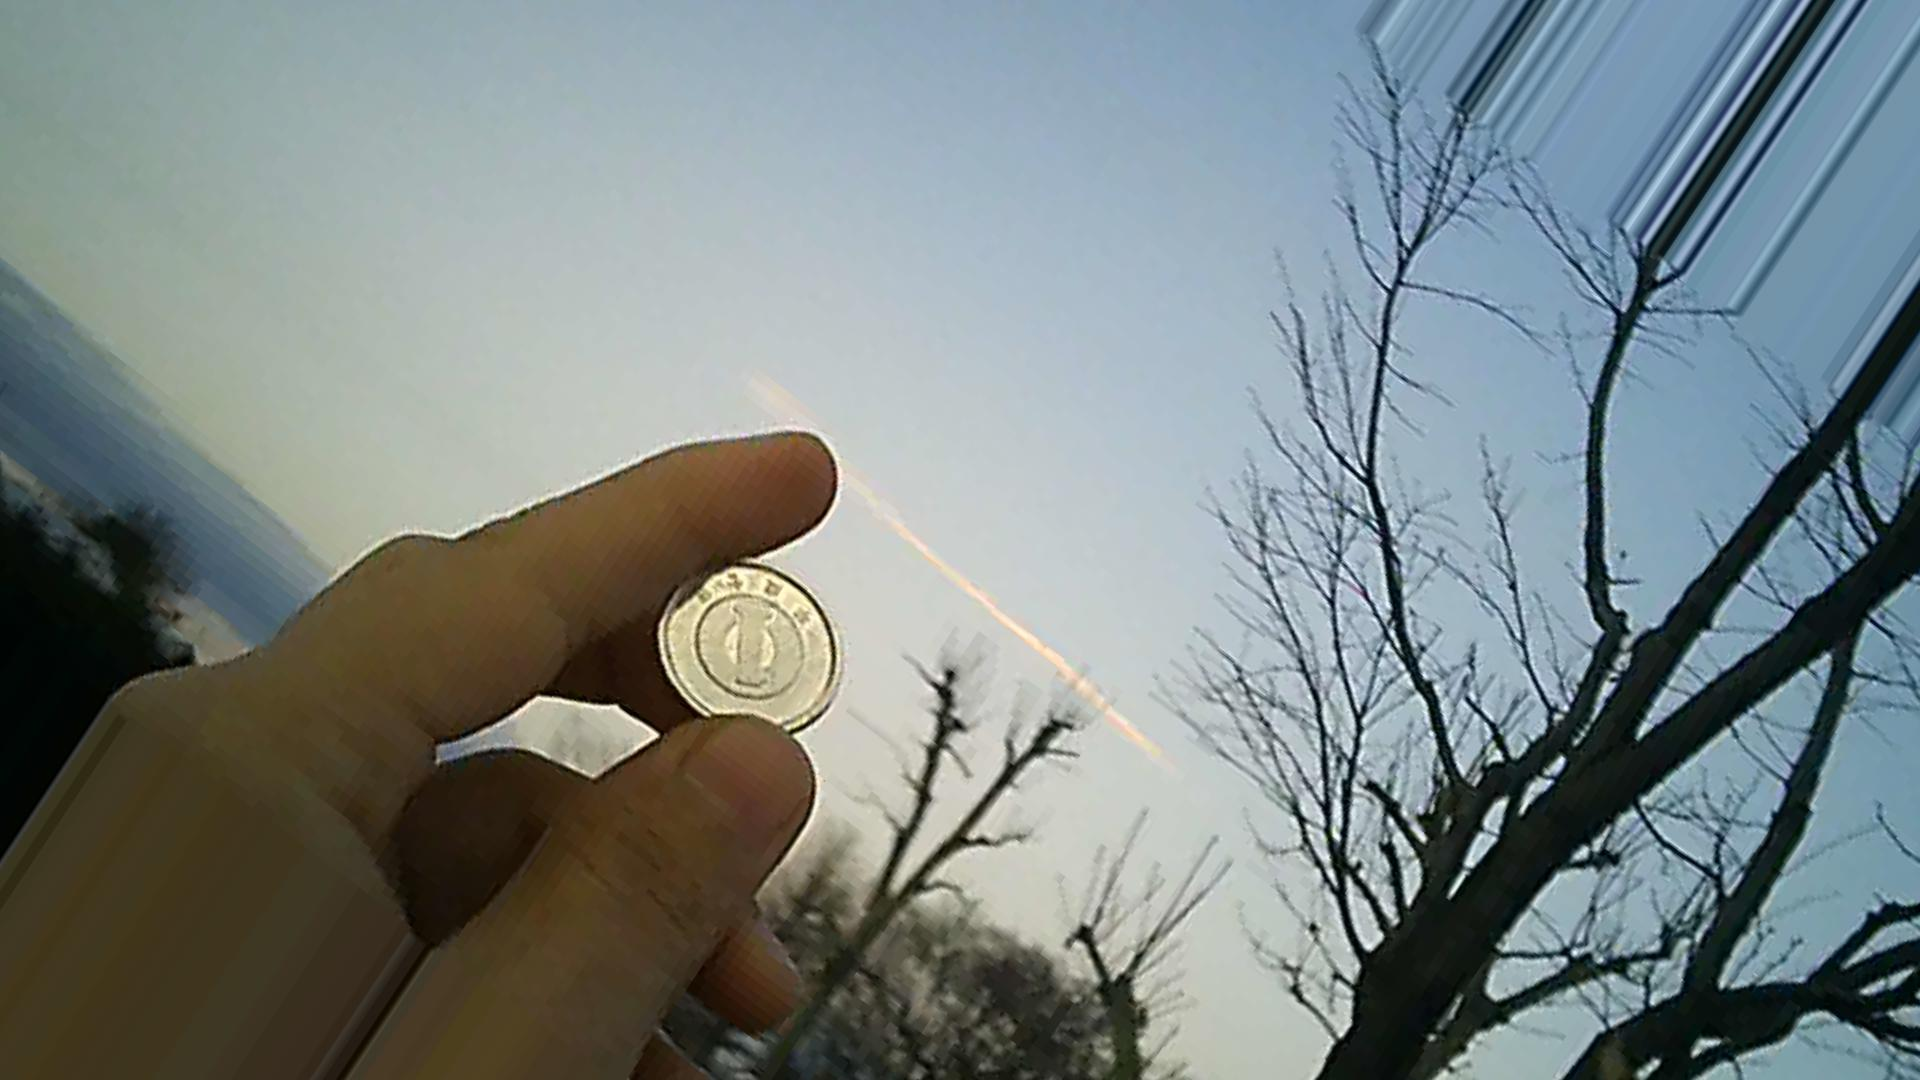1 Yen: (651, 560, 858, 742)
